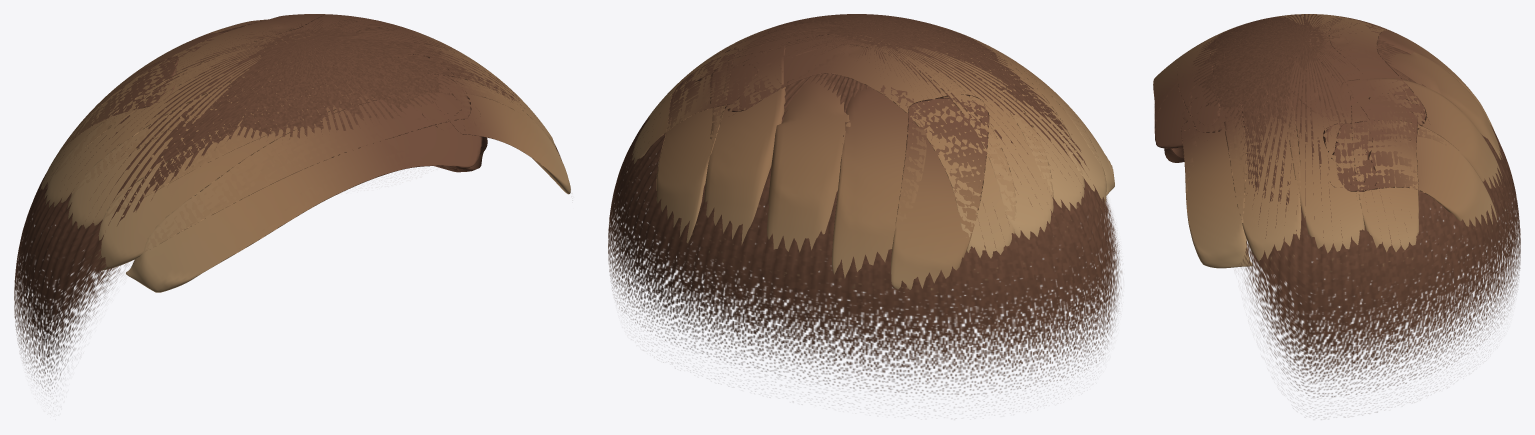
File: Masculine-taper-cap256-hair-ombre.glb
The picture shows the model from 3 angles, left to right: view 1: azimuth 30°, elevation 25°; view 2: azimuth 150°, elevation 25°; view 3: azimuth 270°, elevation 25°; orthographic projection. The views are drawn at different scales.
Visible parts, largest first — view 1: 226 hair / Hair252 / sculpted locks, 226 hair / Hair256 / selected B sides, 226 hair / Hair252 / gentle tonal variation; view 2: 226 hair / Hair256 / selected B sides, 226 hair / Hair252 / sculpted locks, 226 hair / Hair252 / gentle tonal variation; view 3: 226 hair / Hair256 / selected B sides, 226 hair / Hair252 / sculpted locks, 226 hair / Hair252 / gentle tonal variation.
Part boxes in pixels (x1=…): 226 hair / Hair252 / sculpted locks: x1=40, y1=14, x2=555, y2=270; 226 hair / Hair256 / selected B sides: x1=14, y1=18, x2=561, y2=390; 226 hair / Hair252 / gentle tonal variation: x1=105, y1=33, x2=570, y2=292; 226 hair / Hair256 / selected B sides: x1=608, y1=14, x2=1121, y2=406; 226 hair / Hair252 / sculpted locks: x1=627, y1=14, x2=1106, y2=292; 226 hair / Hair252 / gentle tonal variation: x1=832, y1=25, x2=1114, y2=288; 226 hair / Hair256 / selected B sides: x1=1192, y1=14, x2=1520, y2=412; 226 hair / Hair252 / sculpted locks: x1=1177, y1=14, x2=1505, y2=273; 226 hair / Hair252 / gentle tonal variation: x1=1153, y1=24, x2=1494, y2=268.
Bounding box in the file's own units: 0.972 × 0.584 × 0.7003.
Materials: 3 (1 with a texture image).
